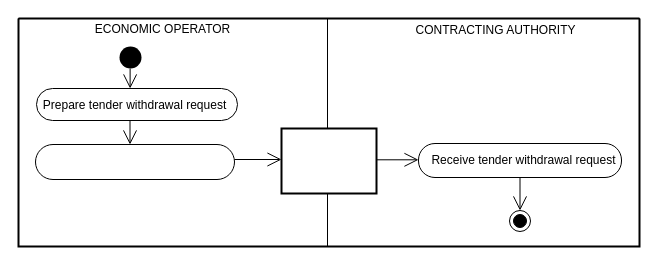
The diagram is 657 pixels wide and 264 high, and some of its shapes have lost their labels. Here are the shapes that lost their labels. From the top down, the centre of each, then its label:
At [134,162]: "Submit tender withdrawal request".
At [328,160]: "Tender Withdrawal".
